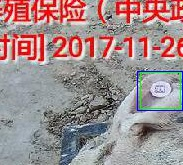text: (140, 72, 180, 108)
